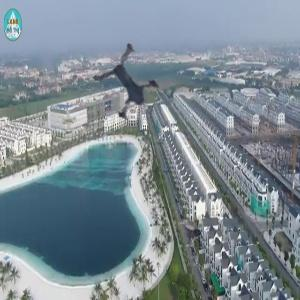drone: (85, 40, 176, 131)
